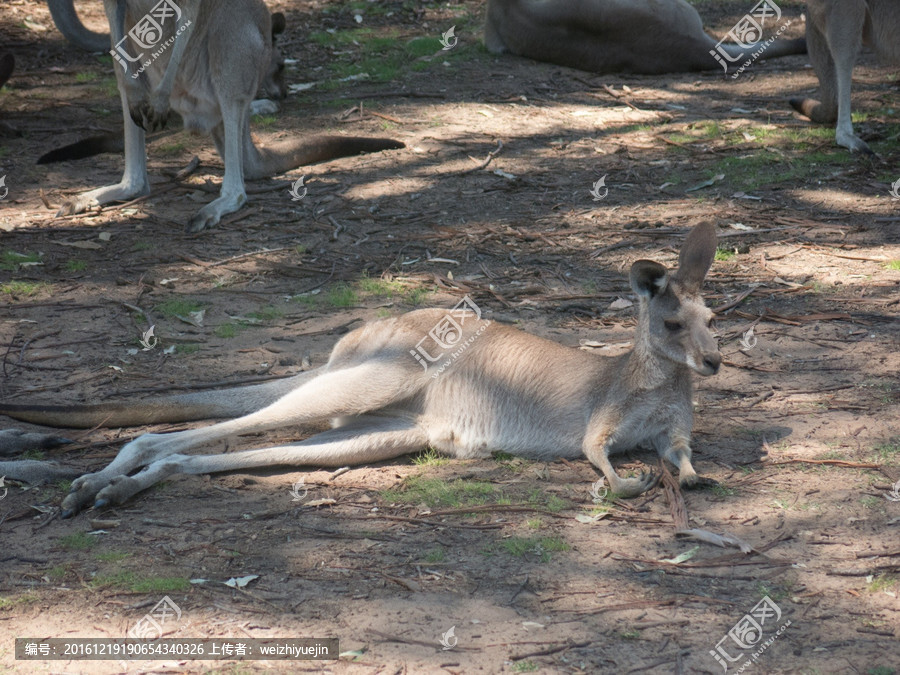kangaroo: (1, 226, 752, 521)
